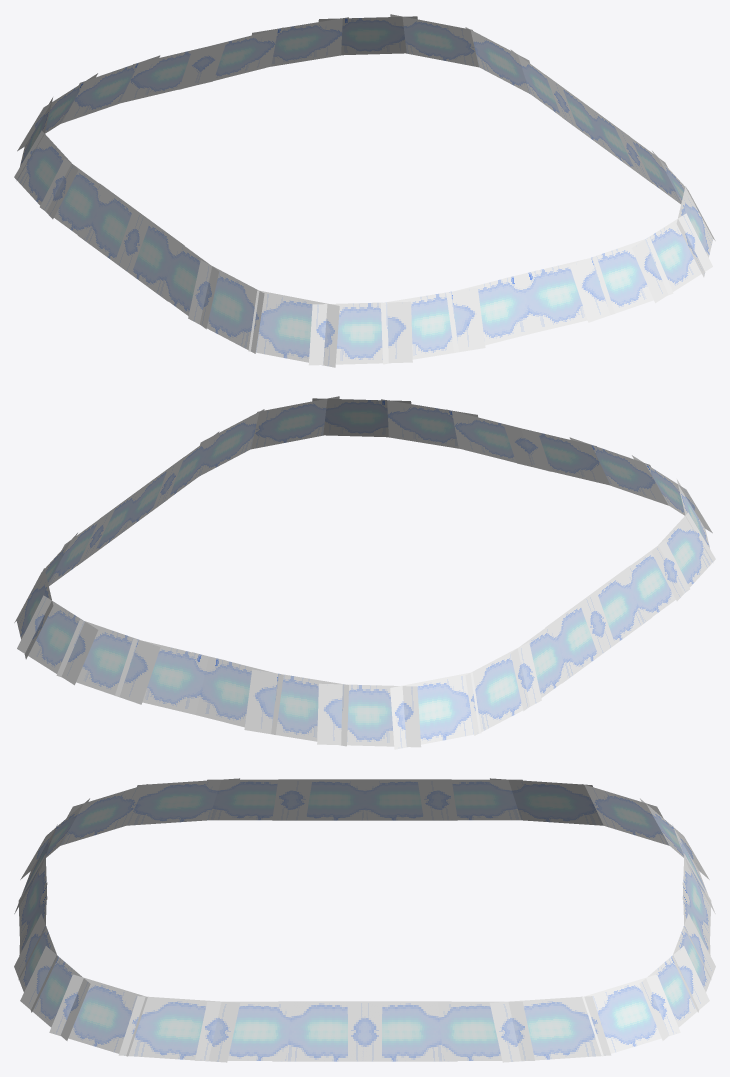
File: st_061_light.fbx
3 views of the same model, one above another, from view 1: azimuth 30°, elevation 25°; view 2: azimuth 150°, elevation 25°; view 3: azimuth 270°, elevation 25° (orthographic). The views are drawn at different scales.
Visible parts, largest first — view 1: st_061_Light; view 2: st_061_Light; view 3: st_061_Light.
Part boxes in pixels (x1,y1,x2,y2): st_061_Light: (14,14,715,367); st_061_Light: (14,396,715,749); st_061_Light: (14,778,715,1062).
Size of the model in its own units: 179 by 17.41 by 219.
